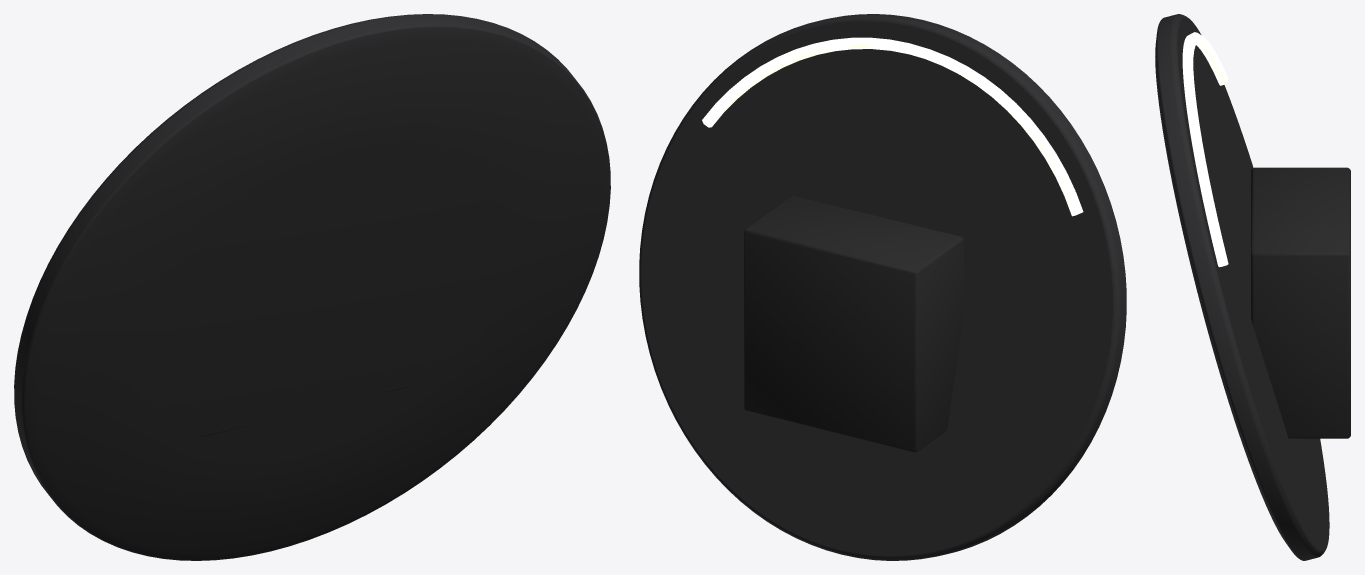
File: nordic-waterproof-wall-sconce-led-bedside-uplight.glb
3 views of the same model, side by side, from view 1: azimuth 30°, elevation 25°; view 2: azimuth 150°, elevation 25°; view 3: azimuth 270°, elevation 25° (orthographic). The views are drawn at different scales.
Visible parts, largest first — view 1: Disc; view 2: Disc, MountBox; view 3: Disc, MountBox, LedSeg00.
Boxes of the visible parts, x1,y1,x2,y2 form: Disc: (14, 14, 610, 560); Disc: (639, 14, 1126, 560); MountBox: (744, 195, 963, 452); Disc: (1155, 14, 1329, 560); MountBox: (1251, 167, 1350, 438); LedSeg00: (1213, 243, 1228, 267).
Bounding box in the file's own units: 0.1801 × 0.1743 × 0.0628.
Materials: 3 (2 with a texture image).
